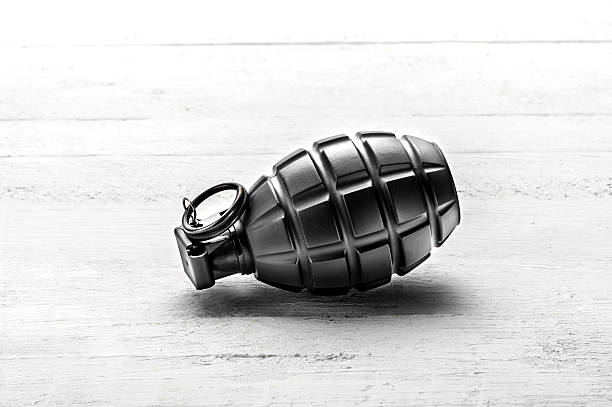e1: (171, 129, 462, 302)
